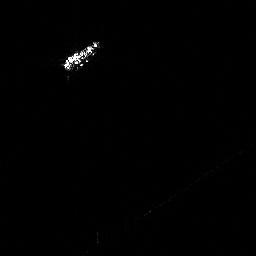ship: (60, 36, 102, 74)
